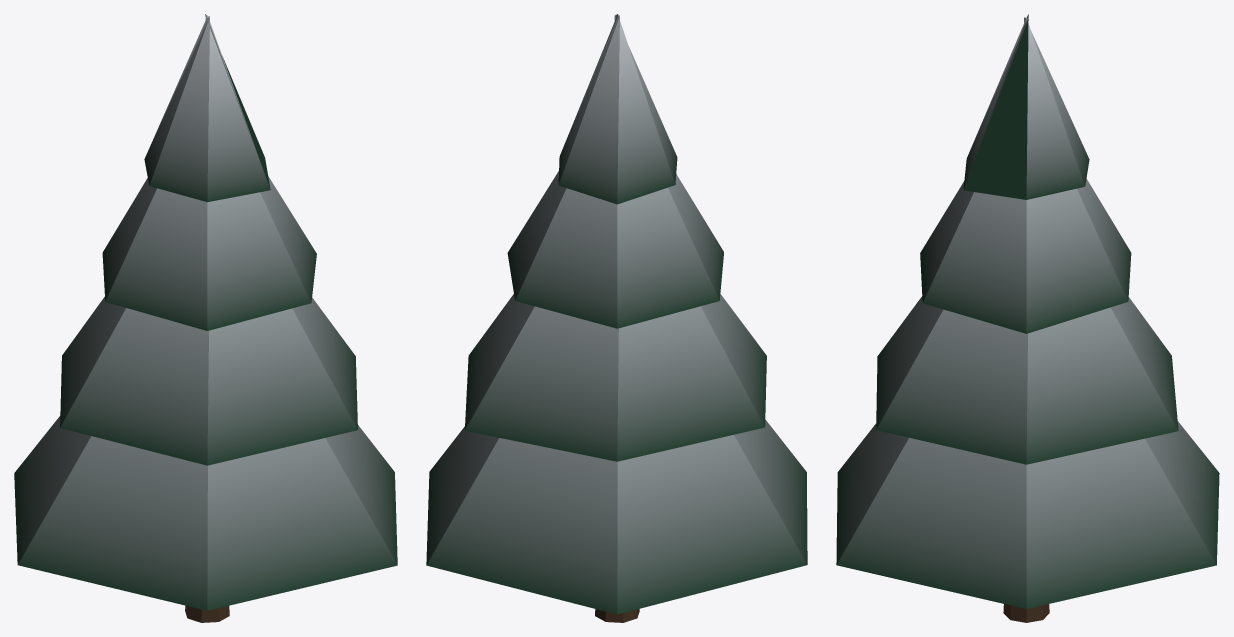
File: tree_snowpine_lod1.glb
3 views of the same model, side by side, from view 1: azimuth 30°, elevation 25°; view 2: azimuth 150°, elevation 25°; view 3: azimuth 270°, elevation 25° (orthographic).
Parts seen in each view (by area): view 1: tier, tier.001, tier.002, tier.003, trunk; view 2: tier, tier.001, tier.002, tier.003; view 3: tier, tier.001, tier.002, tier.003, trunk.
Part boxes in pixels (x1,y1,x2,y2): tier: (14, 416, 397, 610); tier.001: (60, 296, 357, 465); tier.002: (102, 176, 316, 330); tier.003: (144, 14, 270, 202); trunk: (185, 605, 229, 622); tier: (426, 419, 807, 614); tier.001: (464, 294, 766, 461); tier.002: (507, 171, 723, 328); tier.003: (558, 14, 677, 204); tier: (836, 421, 1219, 608); tier.001: (876, 296, 1178, 464); tier.002: (920, 179, 1131, 333); tier.003: (963, 14, 1089, 199); trunk: (1003, 604, 1049, 622).
Bounding box in the file's own units: 1.88 × 2.86 × 1.66.
